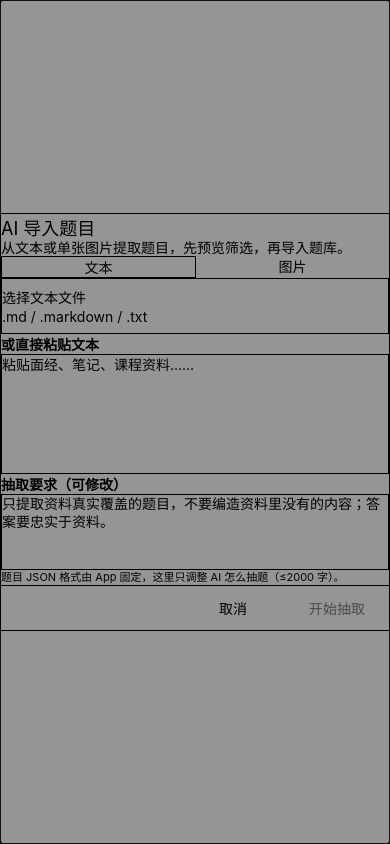
Test case: ImportTextModal 抽取要求（prompt 开放、格式写死） › 修改后出现「恢复默认」，点击还原为默认文案
The width and height of the screenshot is (390, 844).
本环境下 changeText / press 后的重渲染需要 act 包裹才会提交
Replace the text in the text box named "抽取要求提示词" with "只要网络相关的题，答案分点" at (195,532), box [1,494,389,570]
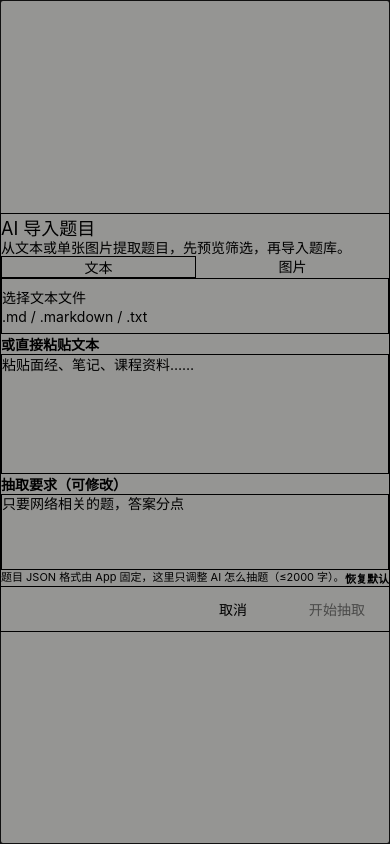
Check: the button with aria-label "恢复默认抽取要求" is shown
Click the button with aria-label "恢复默认抽取要求" at (367,578), box [345,570,389,586]
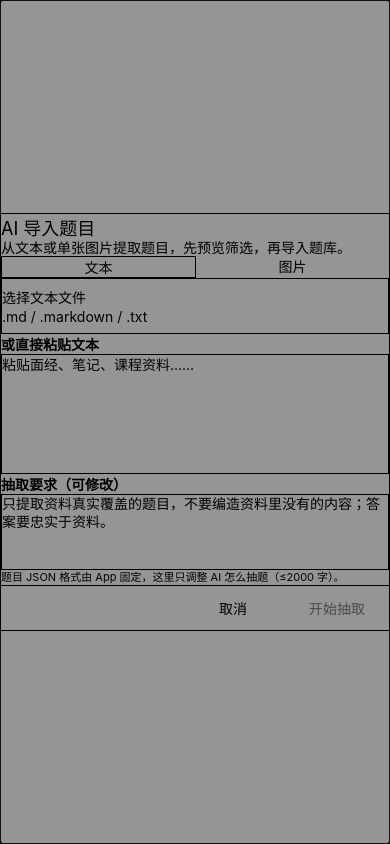
Check: the text box named "抽取要求提示词" holds "只提取资料真实覆盖的题目，不要编造资料里没有的内容；答案要忠实于资料。", box [1,494,389,570]
Check: the button labelled "恢复默认抽取要求" is gone
